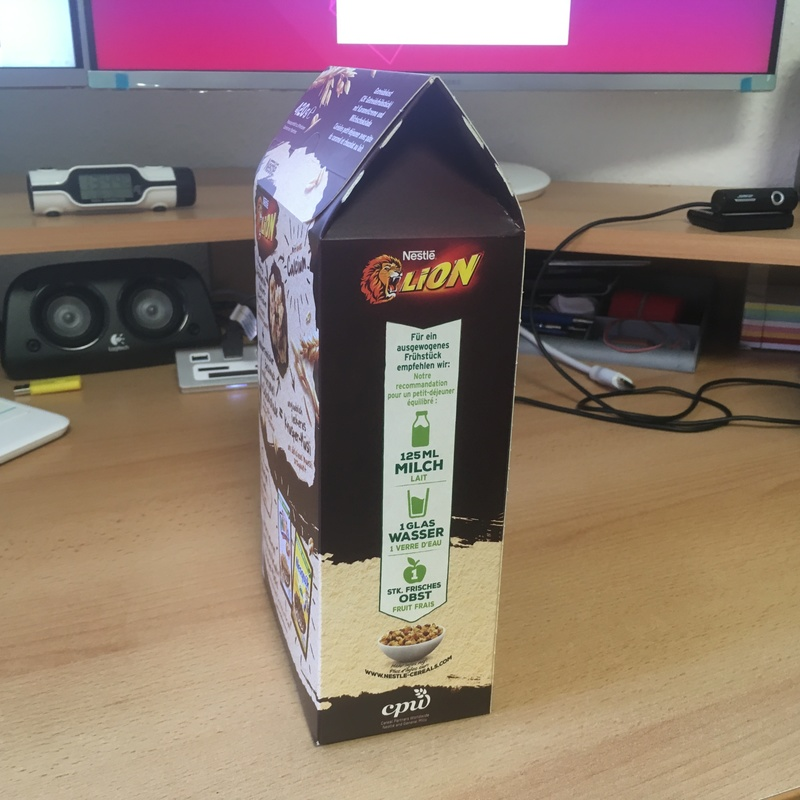cereals: (253, 66, 527, 742)
